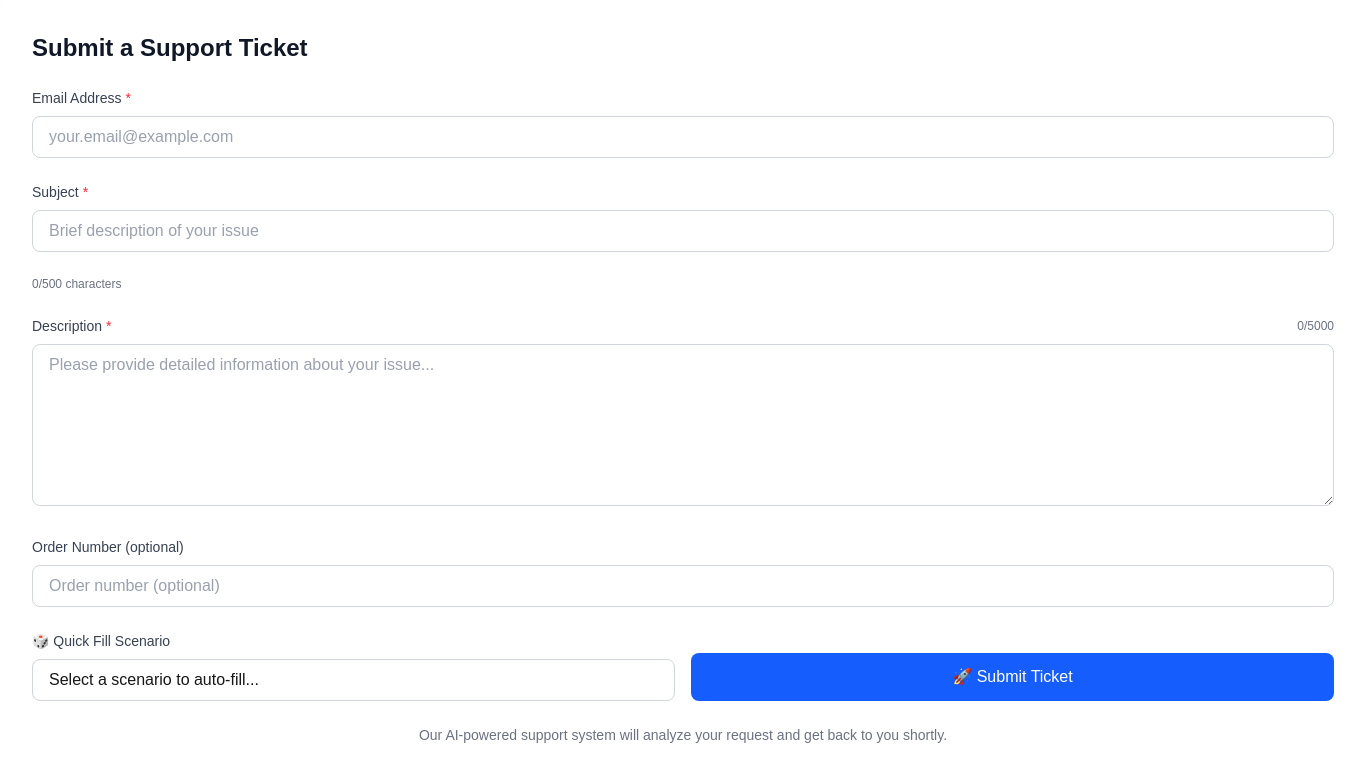
Scenario: TicketForm Integration Tests › Quick Fill Scenario › should auto-fill form when scenario is selected
Select "Wrong Item Delivered" in the dropdown labelled "🎲 Quick Fill Scenario": point(354, 680) [32,659,675,701]
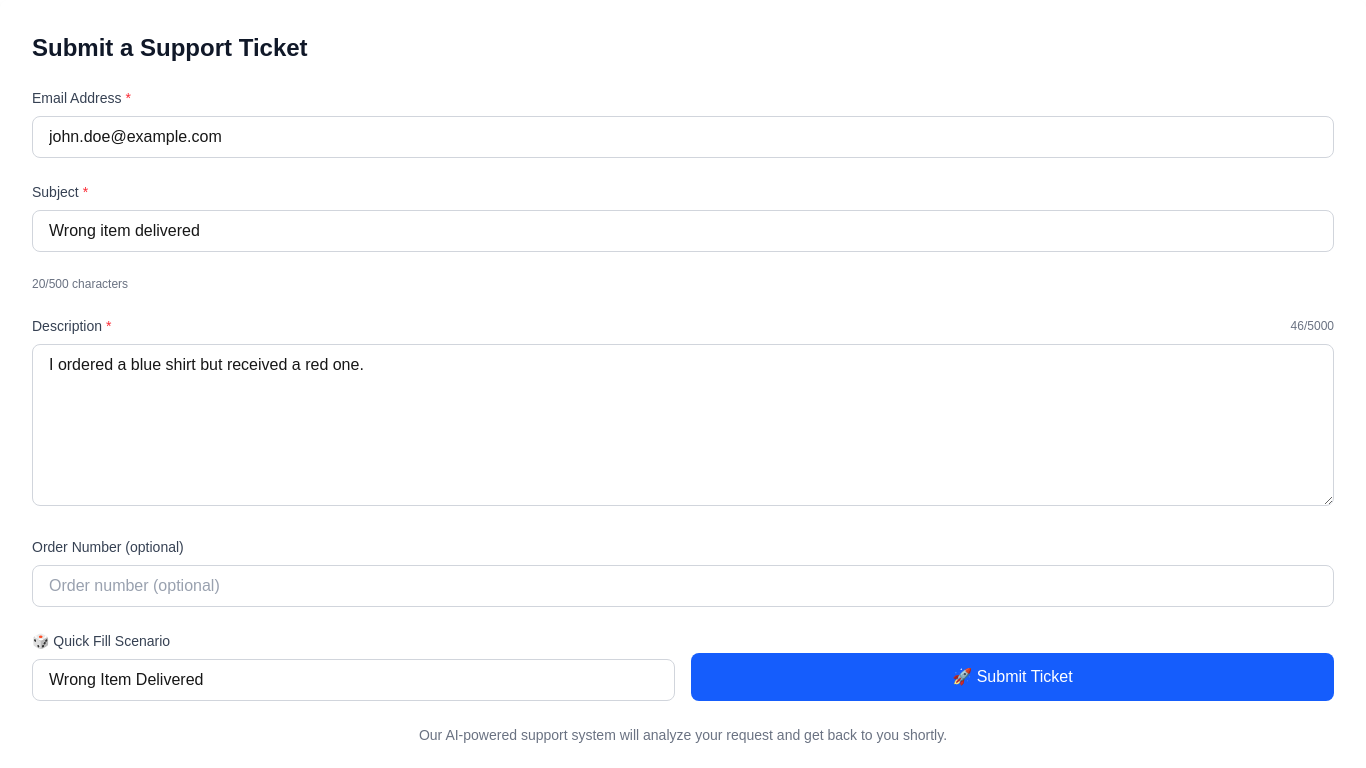
Result: the field labelled "Email Address*" holds "john.doe@example.com" at [32,116,1334,158]
Result: the field labelled "Subject*" holds "Wrong item delivered" at [32,210,1334,252]
Result: the text box labelled "Description*" holds "I ordered a blue shirt but received a red one." at [32,344,1334,506]
